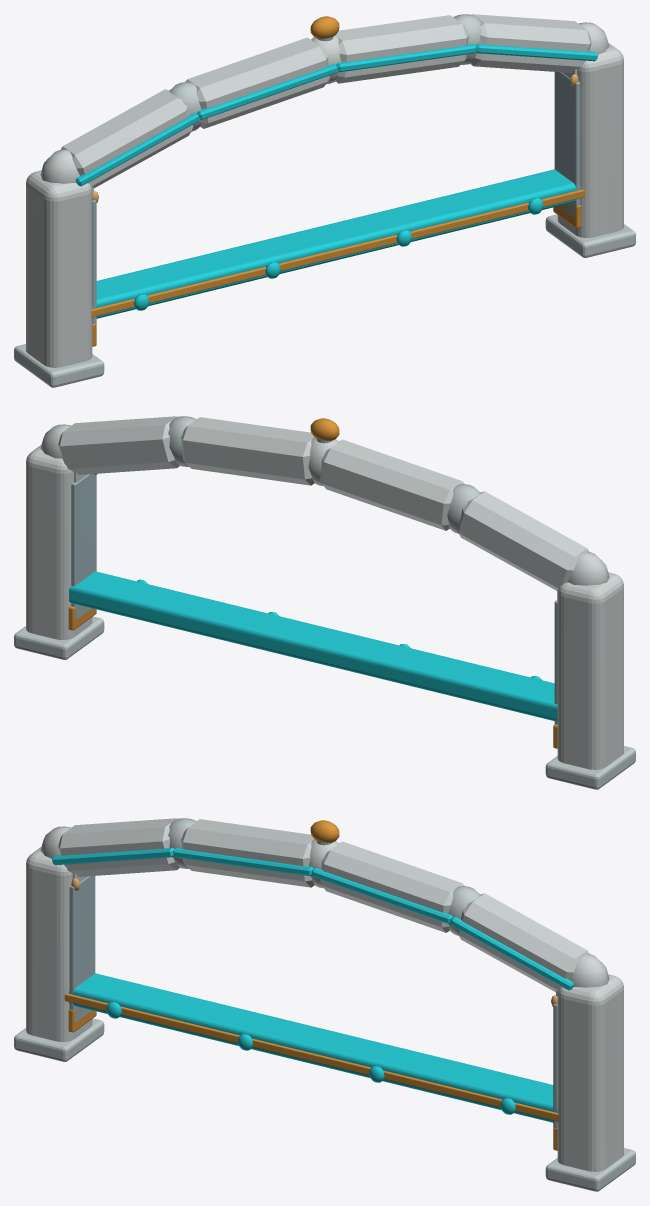
File: runner_day_gantry_v1.glb
3 views of the same model, one above another, from view 1: azimuth 30°, elevation 25°; view 2: azimuth 150°, elevation 25°; view 3: azimuth 330°, elevation 25° (orthographic).
Parts seen in each view (by area): view 1: runner_day_gantry_v1; view 2: runner_day_gantry_v1; view 3: runner_day_gantry_v1.
Part boxes in pixels (x1,y1,x2,y2): runner_day_gantry_v1: (14, 14, 635, 387); runner_day_gantry_v1: (14, 416, 635, 789); runner_day_gantry_v1: (14, 818, 635, 1191).
Bounding box in the file's own units: 11.06 × 5.17 × 1.28.
